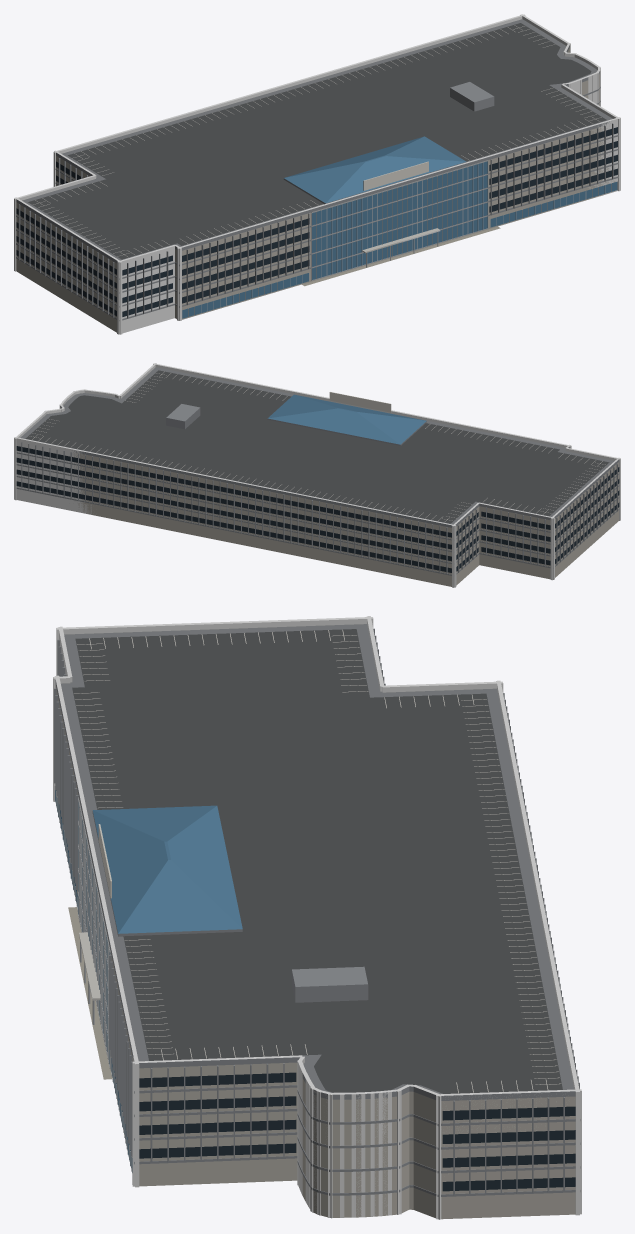
File: generic-mall-royapettah.glb
3 renders of one model, top to bottom at view 1: azimuth 30°, elevation 25°; view 2: azimuth 150°, elevation 25°; view 3: azimuth 270°, elevation 25°, orthographic. The views are drawn at different scales.
Parts seen in each view (by area): view 1: LOD0, COL_00, COL_23, COL_02, COL_25, COL_26, COL_03; view 2: LOD0, COL_23, COL_02, COL_26, COL_22, COL_00; view 3: LOD0, COL_23, COL_02, COL_26, COL_22, COL_24, COL_14, COL_10, COL_17.
Part boxes in pixels (x1=…): LOD0: x1=16, y1=19, x2=618, y2=332; COL_00: x1=117, y1=245, x2=175, y2=334; COL_23: x1=53, y1=14, x2=525, y2=186; COL_02: x1=177, y1=117, x2=620, y2=320; COL_25: x1=14, y1=175, x2=95, y2=271; COL_26: x1=14, y1=197, x2=122, y2=334; COL_03: x1=561, y1=84, x2=620, y2=191; LOD0: x1=16, y1=367, x2=619, y2=586; COL_23: x1=14, y1=437, x2=456, y2=587; COL_02: x1=153, y1=363, x2=571, y2=448; COL_26: x1=550, y1=457, x2=620, y2=580; COL_22: x1=14, y1=411, x2=46, y2=500; COL_00: x1=566, y1=448, x2=620, y2=520; LOD0: x1=54, y1=624, x2=580, y2=1219; COL_23: x1=496, y1=680, x2=579, y2=1215; COL_02: x1=55, y1=675, x2=139, y2=1187; COL_26: x1=56, y1=617, x2=373, y2=675; COL_22: x1=436, y1=1089, x2=581, y2=1219; COL_24: x1=382, y1=681, x2=503, y2=692; COL_14: x1=351, y1=1092, x2=365, y2=1217; COL_10: x1=310, y1=1087, x2=322, y2=1215; COL_17: x1=378, y1=1090, x2=391, y2=1216.
Size of what is drawn, in the model's own units: 218 by 29.7 by 101.
